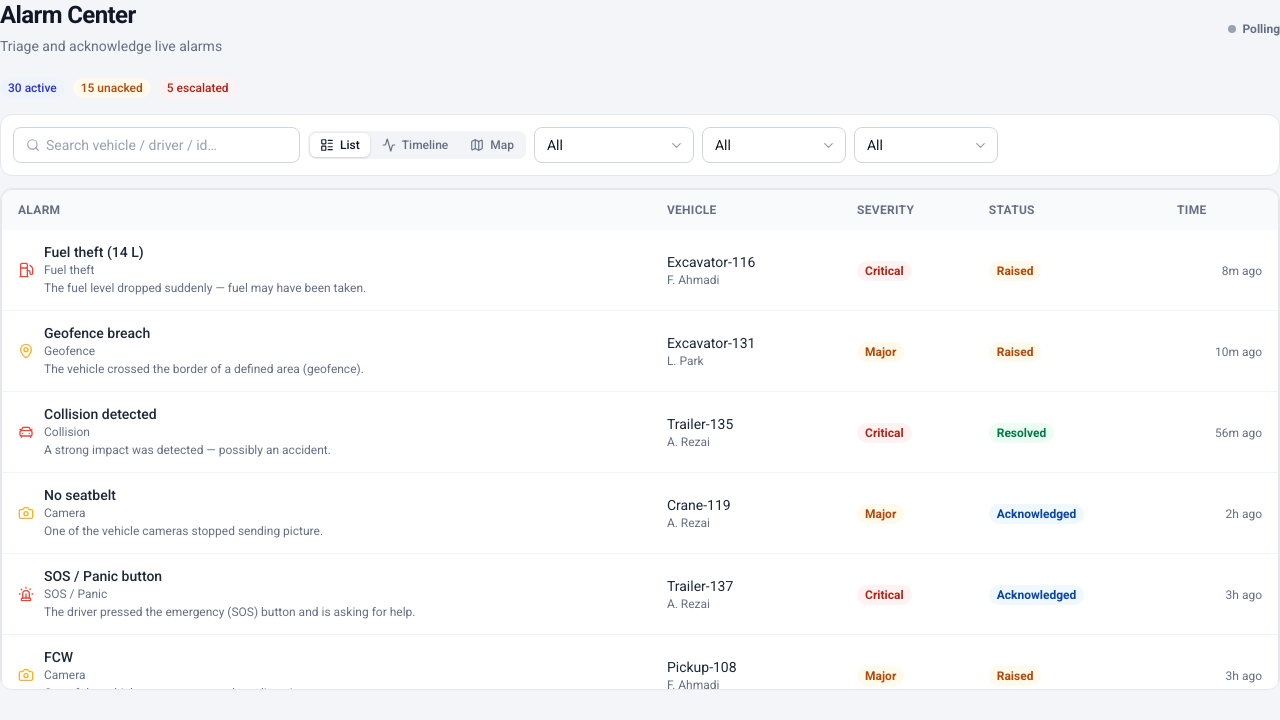
AlarmCenterPage › transitions an alarm to acknowledged when the Acknowledge button is clicked
Click the text "Excavator-116" at (711, 262), box [667,254,755,270]
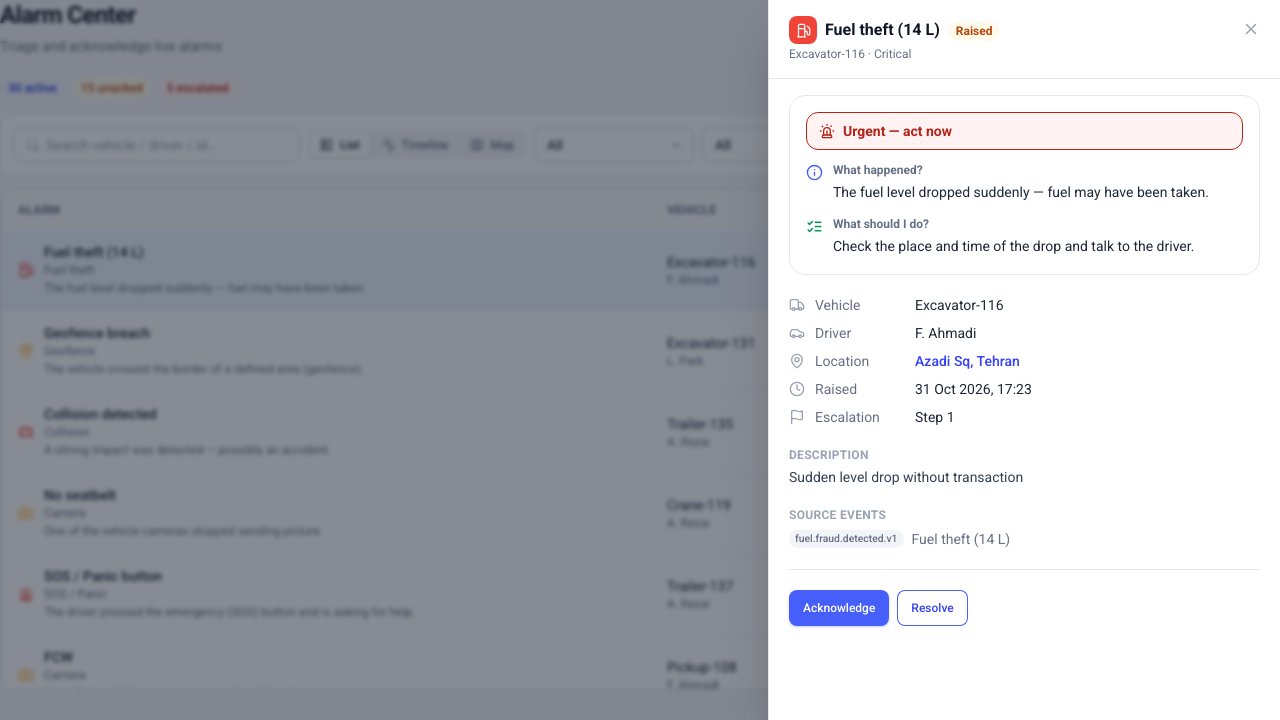
# The drawer's Acknowledge button transitions the alarm to acked.
Click the button "Acknowledge" at (839, 608), box [789,590,889,626]
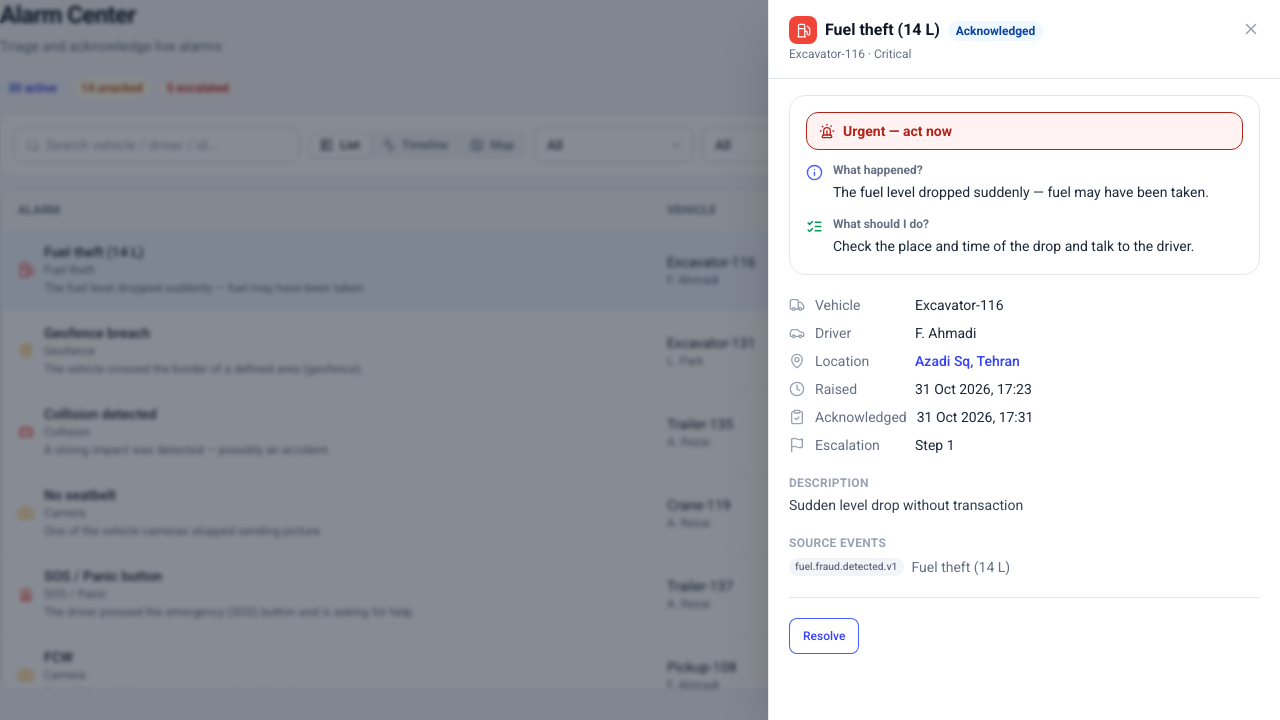
Now the 1st text "Acknowledged" is shown, box [948,21,1043,41]
